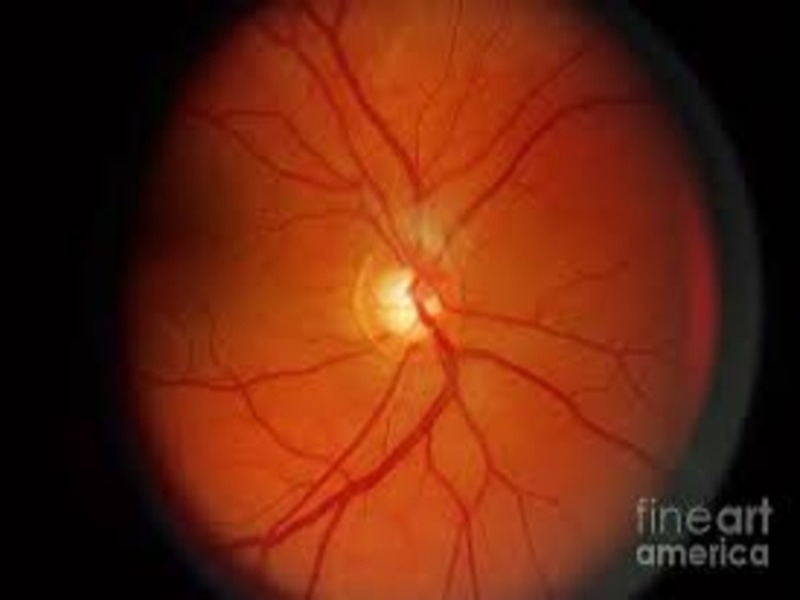Optic Cup: (377, 271, 419, 329)
Optic Disc: (355, 234, 460, 362)
